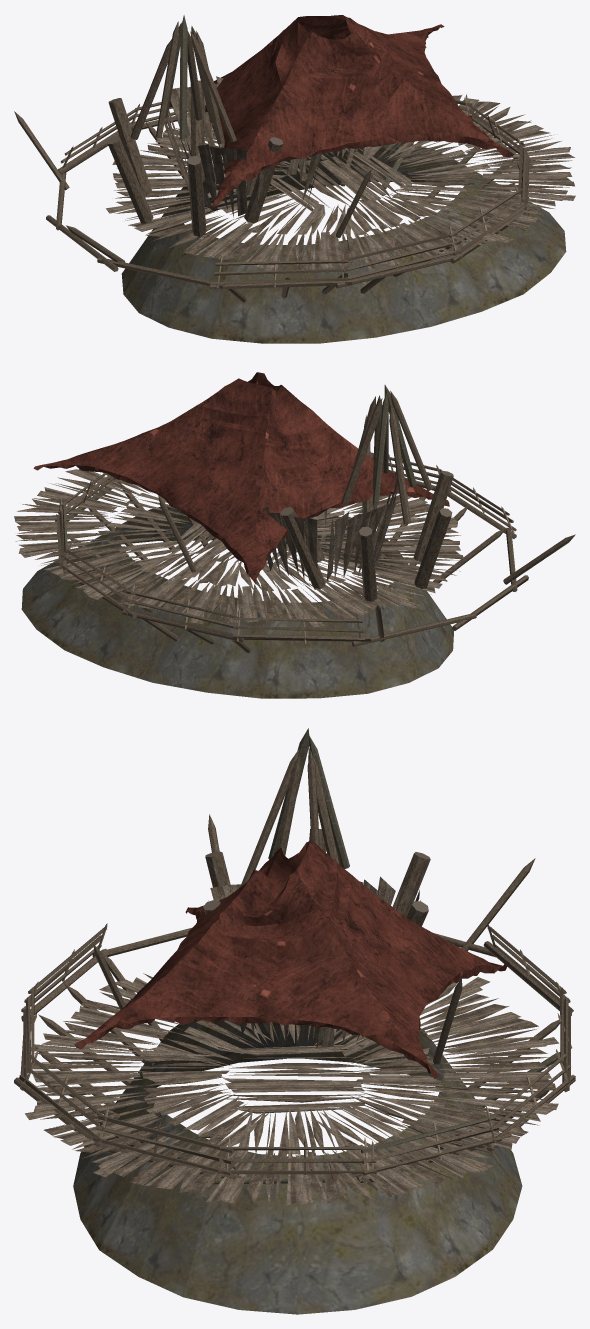
File: casa_plataforma.glb
The picture shows the model from 3 angles, top to bottom: view 1: azimuth 30°, elevation 25°; view 2: azimuth 150°, elevation 25°; view 3: azimuth 270°, elevation 25°; orthographic projection. The views are drawn at different scales.
Parts seen in each view (by area): view 1: casa_plataforma; view 2: casa_plataforma; view 3: casa_plataforma.
Part boxes in pixels (box(x1,y1,x2,y2)): casa_plataforma: box(14, 15, 575, 343); casa_plataforma: box(14, 372, 575, 698); casa_plataforma: box(14, 728, 575, 1314).
Bounding box in the file's own units: 14.97 × 7.81 × 10.99.
Materials: 5 (5 with a texture image).
